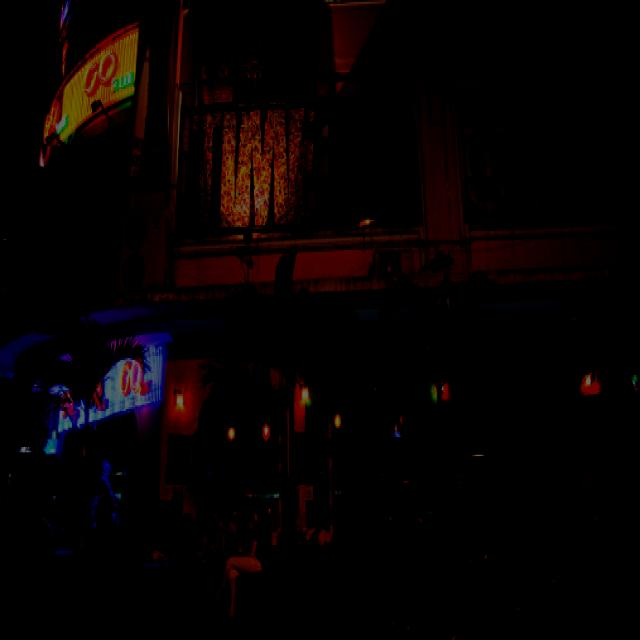Motorbike: (448, 553, 561, 640)
